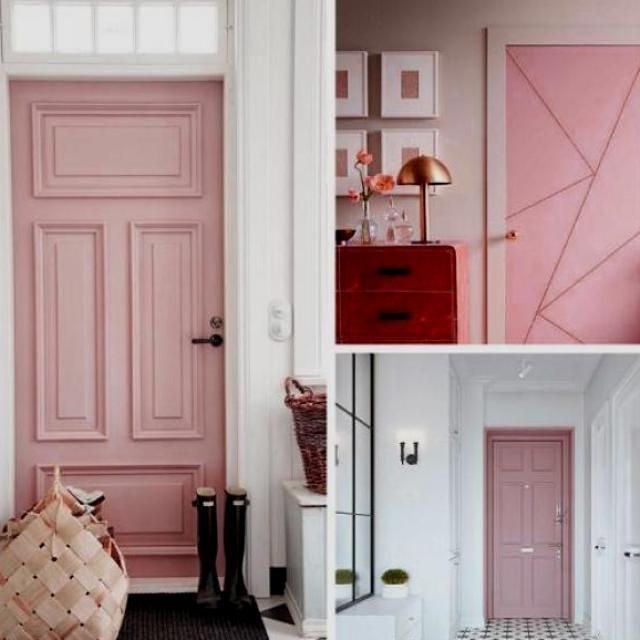door: (9, 77, 226, 580), (503, 37, 640, 342), (487, 432, 567, 620)
